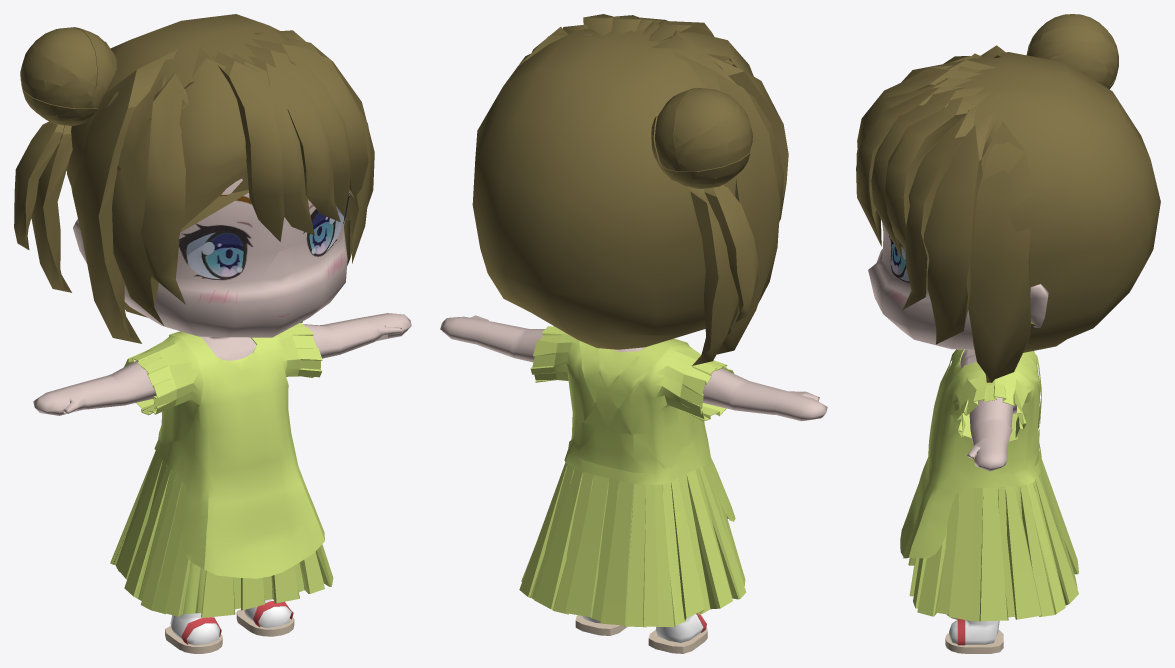
The model's file is Boss.fbx.
3 views of the same model, side by side, from view 1: azimuth 30°, elevation 25°; view 2: azimuth 150°, elevation 25°; view 3: azimuth 270°, elevation 25° (orthographic). The views are drawn at different scales.
Parts seen in each view (by area): view 1: polySurface16, apron, dress, polySurface2, pCube8, pCube13, polySurface6, pCube12, pSphere1, pCube10, pCube6, pCube7 (+5 smaller); view 2: polySurface6, dress, pSphere1, apron, polySurface16, polySurface2, polySurface17, polySurface18, pCube8, pCube13, shose, pCube12 (+1 smaller); view 3: polySurface6, dress, polySurface1, polySurface16, apron, pCube12, pCube8, pCube11, pSphere1, pCube7, pCube6, pCube10 (+3 smaller).
Part boxes in pixels (x1=…): polySurface16: x1=33, y1=178, x2=411, y2=645; apron: x1=154, y1=331, x2=324, y2=578; dress: x1=110, y1=321, x2=333, y2=617; polySurface2: x1=72, y1=49, x2=177, y2=343; pCube8: x1=141, y1=42, x2=372, y2=304; pCube13: x1=179, y1=47, x2=248, y2=232; polySurface6: x1=66, y1=14, x2=293, y2=317; pCube12: x1=112, y1=37, x2=374, y2=325; pSphere1: x1=20, y1=27, x2=117, y2=125; pCube10: x1=211, y1=51, x2=284, y2=241; pCube6: x1=248, y1=56, x2=340, y2=221; pCube7: x1=244, y1=43, x2=350, y2=216; polySurface6: x1=472, y1=28, x2=746, y2=349; dress: x1=519, y1=326, x2=746, y2=627; pSphere1: x1=651, y1=87, x2=752, y2=188; apron: x1=564, y1=338, x2=735, y2=521; polySurface16: x1=440, y1=315, x2=827, y2=642; polySurface2: x1=672, y1=51, x2=780, y2=354; polySurface17: x1=688, y1=186, x2=738, y2=365; polySurface18: x1=704, y1=185, x2=758, y2=322; pCube8: x1=563, y1=24, x2=788, y2=220; pCube13: x1=651, y1=30, x2=753, y2=76; shose: x1=575, y1=613, x2=707, y2=653; pCube12: x1=532, y1=27, x2=783, y2=221; polySurface6: x1=954, y1=52, x2=1160, y2=352; dress: x1=908, y1=349, x2=1078, y2=621; polySurface1: x1=968, y1=93, x2=1032, y2=382; polySurface16: x1=868, y1=222, x2=1048, y2=644; apron: x1=900, y1=349, x2=1041, y2=558; pCube12: x1=923, y1=53, x2=993, y2=344; pCube8: x1=902, y1=56, x2=979, y2=309; pCube11: x1=885, y1=92, x2=991, y2=250; pSphere1: x1=1026, y1=14, x2=1118, y2=89; pCube7: x1=871, y1=87, x2=985, y2=259; pCube6: x1=856, y1=86, x2=964, y2=246; pCube10: x1=857, y1=65, x2=981, y2=147.
Size of the model in its own units: 2.21 by 3.32 by 1.64.
